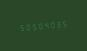five: (59, 18, 64, 29), (17, 22, 22, 32), (29, 21, 34, 31)
four: (41, 20, 46, 30)
three: (53, 19, 58, 29)
zero: (23, 21, 28, 32), (35, 20, 40, 31), (47, 19, 52, 30)
